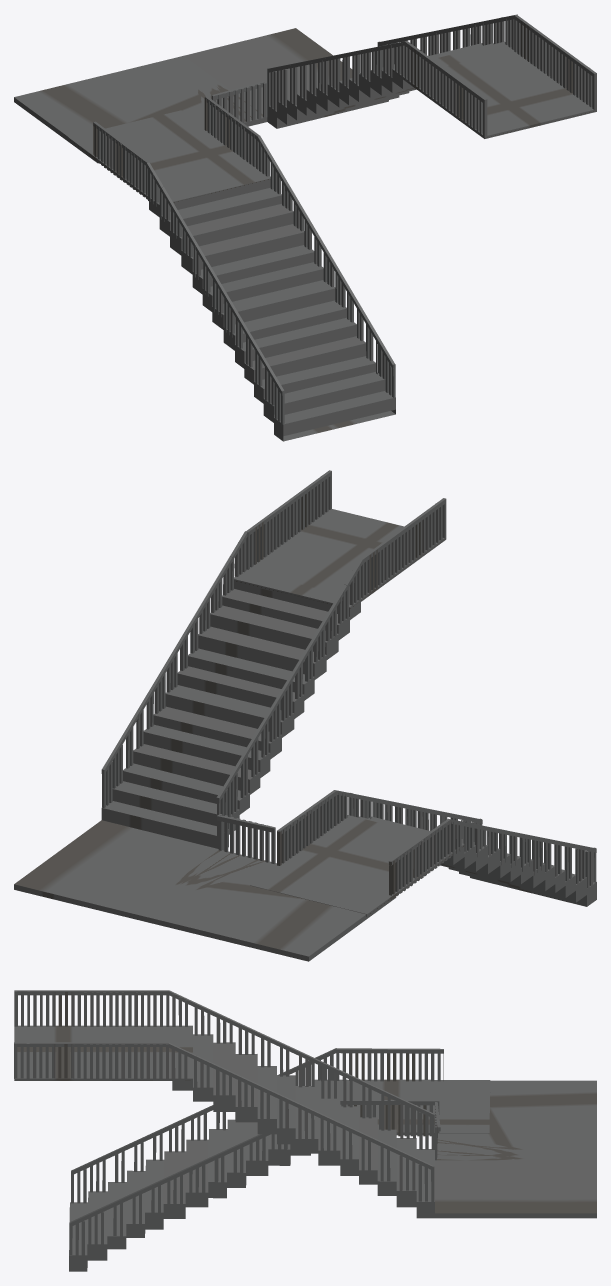
Rendered from stairs.fbx.
3 renders of one model, top to bottom at view 1: azimuth 30°, elevation 25°; view 2: azimuth 150°, elevation 25°; view 3: azimuth 270°, elevation 25°, orthographic. The views are drawn at different scales.
Visible parts, largest first — view 1: Cube, Cube.001; view 2: Cube, Cube.001; view 3: Cube, Cube.001.
Part boxes in pixels (x1,y1,x2,y2): Cube: (14,14,596,427); Cube.001: (68,110,395,441); Cube: (14,470,596,961); Cube.001: (250,815,596,916); Cube: (14,990,596,1255); Cube.001: (69,1079,490,1271).
Size of the model in its own units: 1011 by 1081 by 1843.
